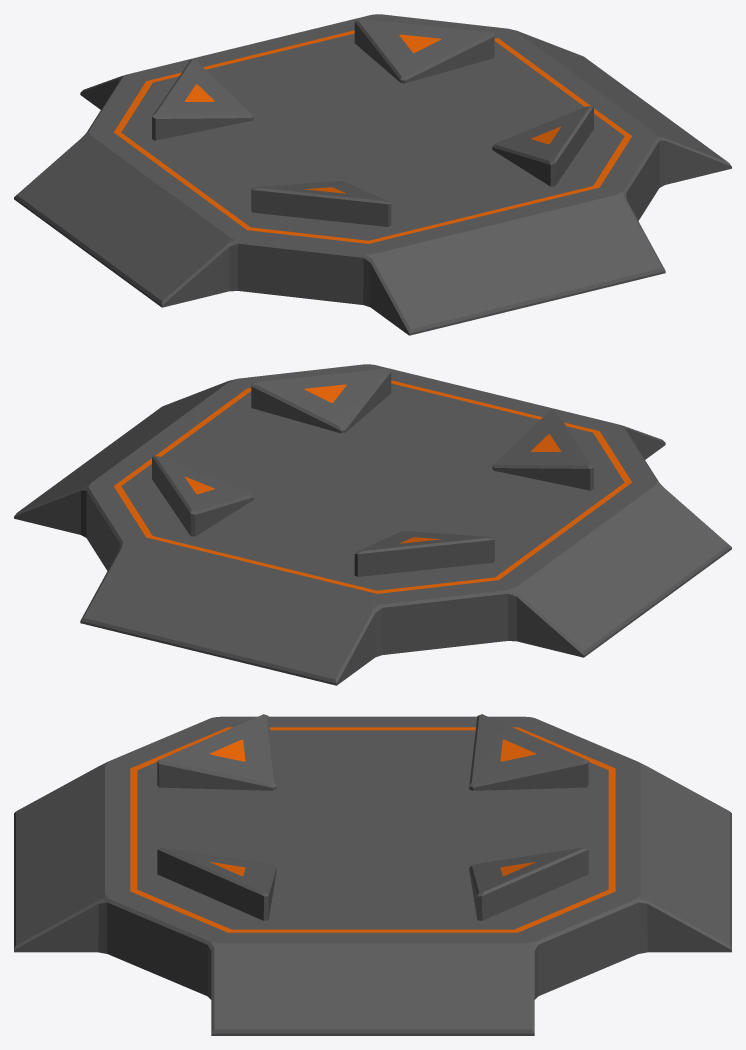
The model's file is SM_LandingPad.fbx.
The picture shows the model from 3 angles, top to bottom: view 1: azimuth 30°, elevation 25°; view 2: azimuth 150°, elevation 25°; view 3: azimuth 270°, elevation 25°; orthographic projection. The views are drawn at different scales.
Parts seen in each view (by area): view 1: SM_LandingPad; view 2: SM_LandingPad; view 3: SM_LandingPad.
Boxes of the visible parts, <box> form: SM_LandingPad: <box>14,14,731,335</box>; SM_LandingPad: <box>14,364,731,685</box>; SM_LandingPad: <box>14,714,731,1035</box>.
Bounding box in the file's own units: 2400 × 298 × 2400.
